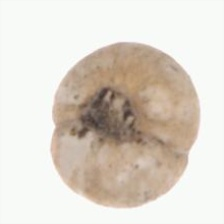L3: (48, 42, 201, 209)
